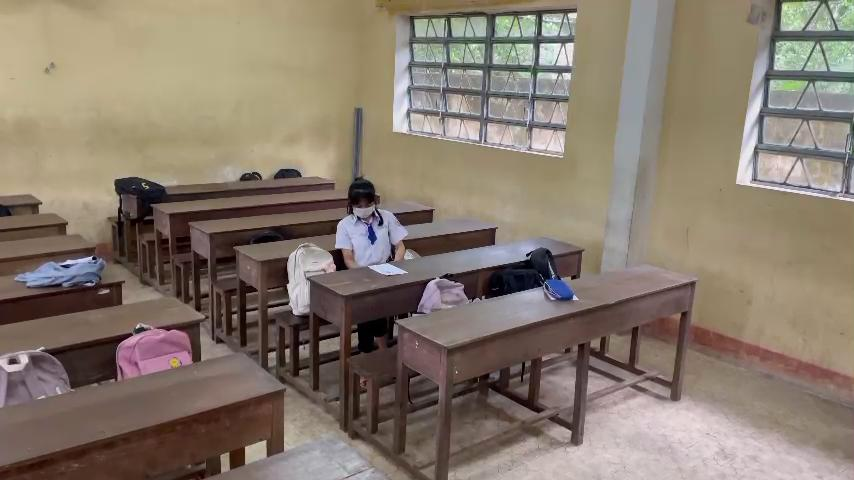Bend Over The Desk: (337, 171, 385, 230)
Hand Under Table: (329, 217, 364, 270), (380, 211, 415, 264)
